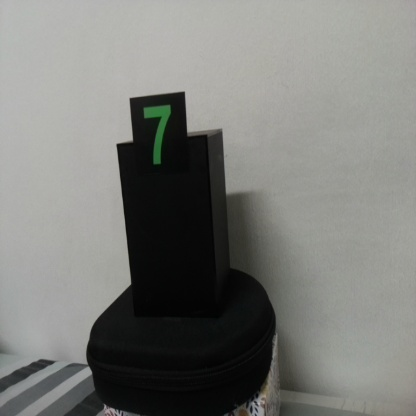id_7: (130, 96, 188, 185)
